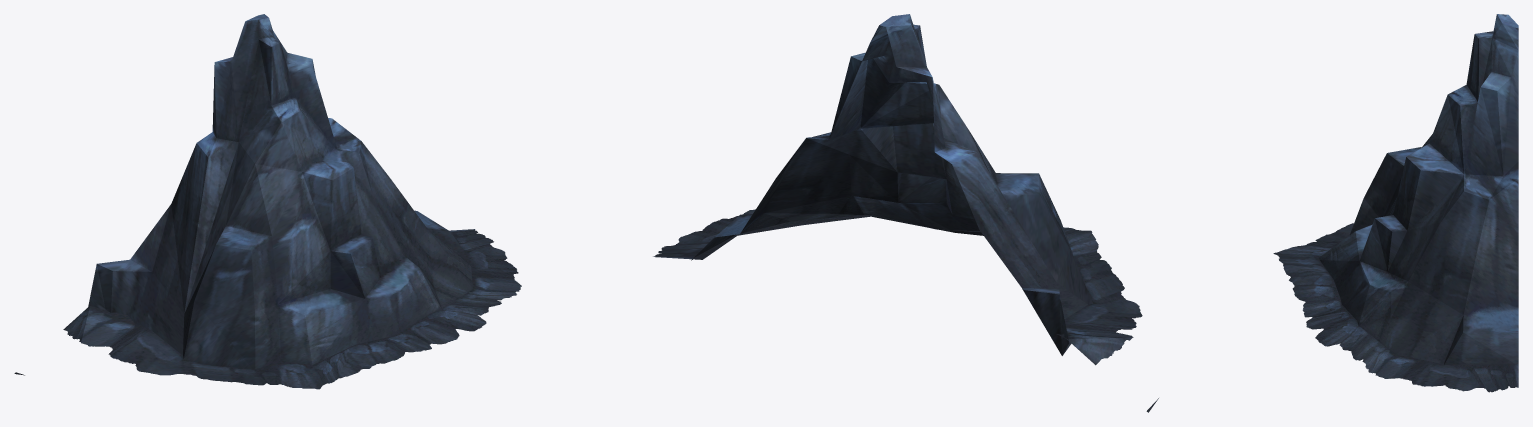
File: mine_half_footer_01.fbx
3 renders of one model, left to right at view 1: azimuth 30°, elevation 25°; view 2: azimuth 150°, elevation 25°; view 3: azimuth 270°, elevation 25°, orthographic. The views are drawn at different scales.
Visible parts, largest first — view 1: obj0.026; view 2: obj0.026; view 3: obj0.026.
Boxes of the visible parts, box(x1,y1,x2,y2) form: obj0.026: box(14, 14, 521, 389); obj0.026: box(653, 14, 1158, 412); obj0.026: box(1273, 14, 1518, 392).
Bounding box in the file's own units: 5.21 × 3.05 × 2.67.
